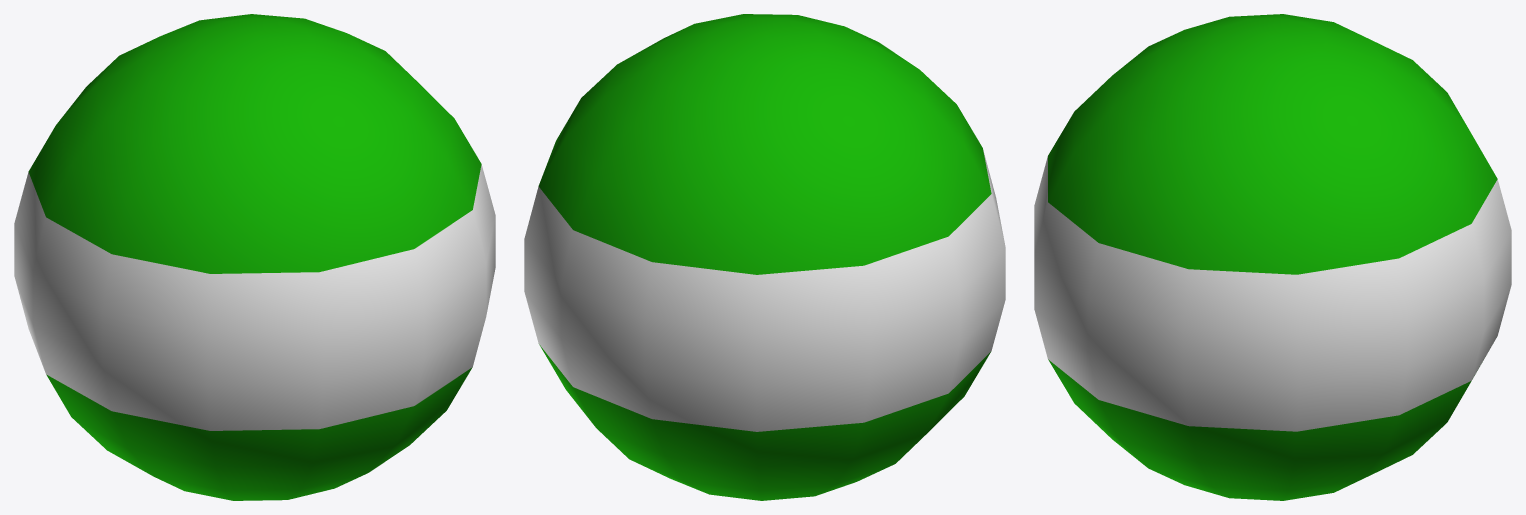
Rendered from D_Ball12_02.fbx.
3 views of the same model, side by side, from view 1: azimuth 30°, elevation 25°; view 2: azimuth 150°, elevation 25°; view 3: azimuth 270°, elevation 25° (orthographic).
Visible parts, largest first — view 1: D_Ball12_02; view 2: D_Ball12_02; view 3: D_Ball12_02.
Boxes of the visible parts, box(x1,y1,x2,y2) form: D_Ball12_02: box(14, 14, 495, 500); D_Ball12_02: box(524, 14, 1005, 500); D_Ball12_02: box(1034, 14, 1511, 500).
Size of the model in its own units: 0.9798 by 0.9943 by 0.9727.
